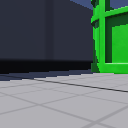green_basket: (91, 1, 128, 76)
